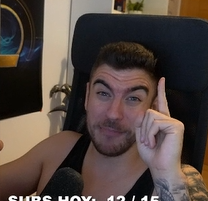person: (0, 39, 208, 200)
